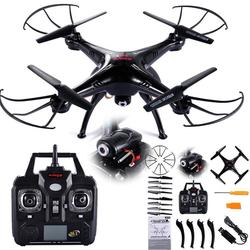drone: (1, 2, 245, 140), (210, 145, 250, 186)
